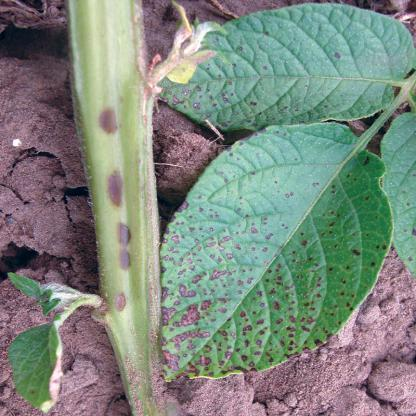potato leaf early blight: (143, 121, 398, 387), (151, 0, 415, 136)
